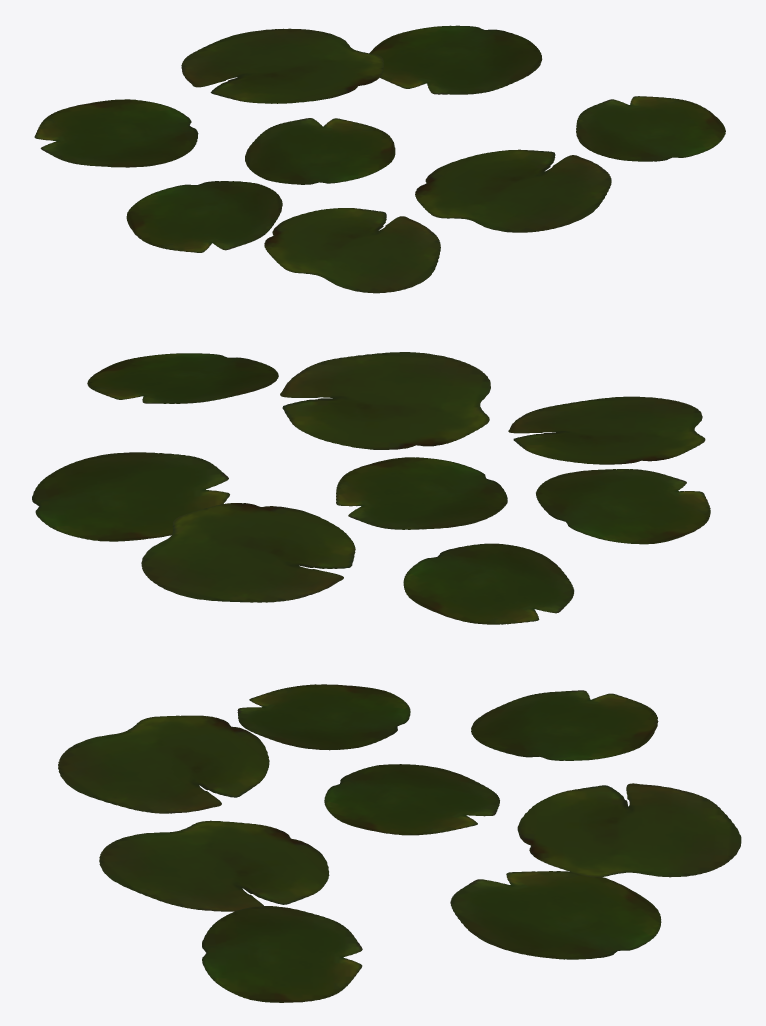
3 views of the same model, one above another, from view 1: azimuth 30°, elevation 25°; view 2: azimuth 150°, elevation 25°; view 3: azimuth 270°, elevation 25° (orthographic). The views are drawn at different scales.
Parts seen in each view (by area): view 1: grass_water_leaves_a-0-swamp_plants; view 2: grass_water_leaves_a-0-swamp_plants; view 3: grass_water_leaves_a-0-swamp_plants.
Boxes of the visible parts, <box> form: grass_water_leaves_a-0-swamp_plants: <box>34,25,725,293</box>; grass_water_leaves_a-0-swamp_plants: <box>32,352,710,624</box>; grass_water_leaves_a-0-swamp_plants: <box>58,684,741,1002</box>.
Bounding box in the file's own units: 2.5 × 0.086 × 2.31.
1 material, 1 textured.
